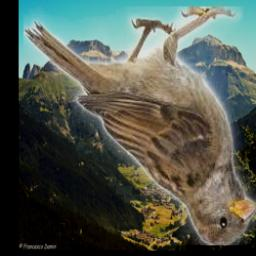Sparrow: (23, 7, 256, 246)
